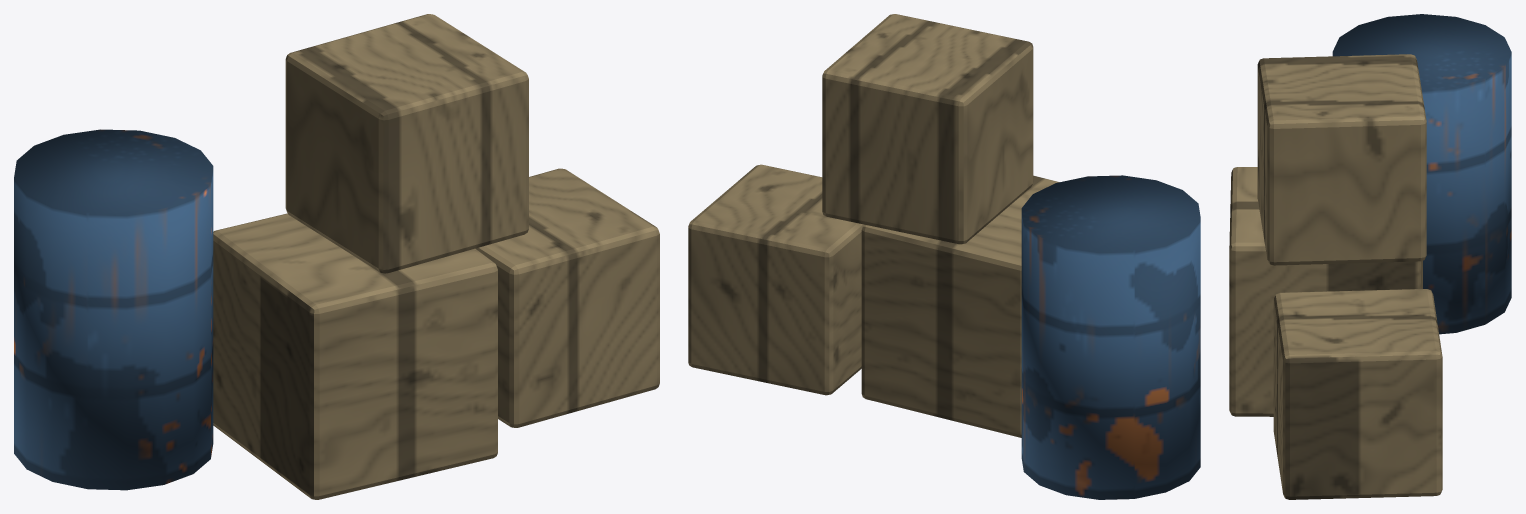
The model's file is bunker_crates.glb.
The picture shows the model from 3 angles, left to right: view 1: azimuth 30°, elevation 25°; view 2: azimuth 150°, elevation 25°; view 3: azimuth 270°, elevation 25°; orthographic projection. The views are drawn at different scales.
Parts seen in each view (by area): view 1: Crates; view 2: Crates; view 3: Crates.
Boxes of the visible parts, x1,y1,x2,y2 form: Crates: (14,14,659,499); Crates: (688,14,1200,499); Crates: (1229,14,1511,499).
Size of the model in its own units: 1.79 by 1.1 by 0.8828.
1 material, 1 textured.
